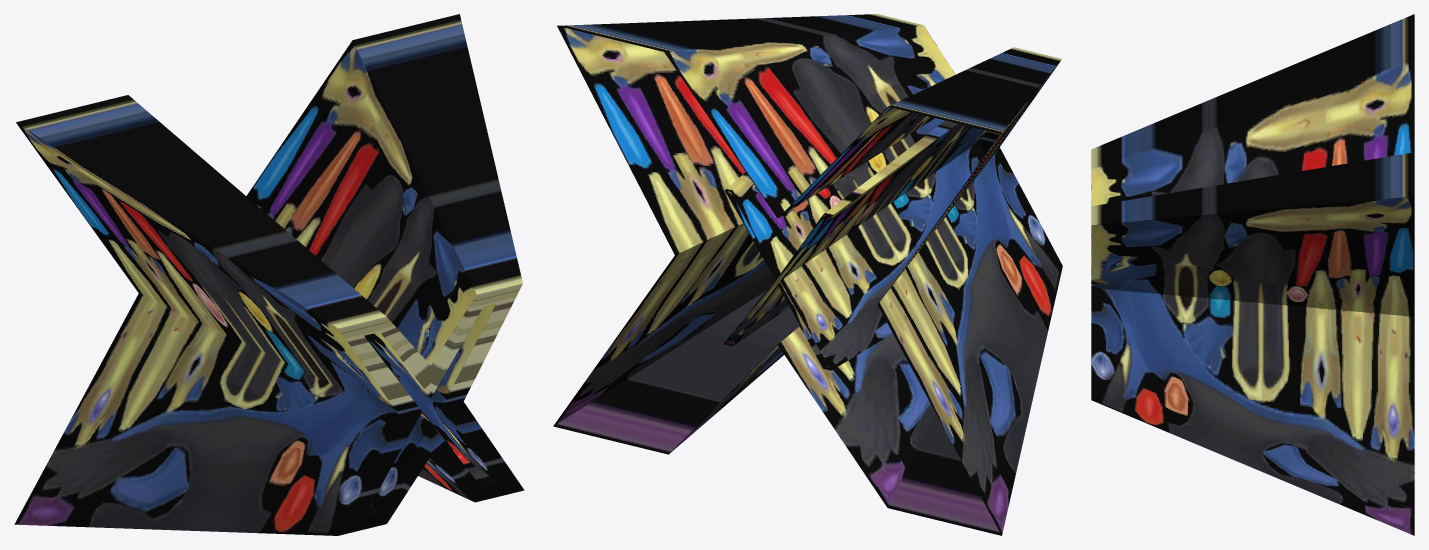
File: 0503_zheerniyasi_X.glb
3 renders of one model, left to right at view 1: azimuth 30°, elevation 25°; view 2: azimuth 150°, elevation 25°; view 3: azimuth 270°, elevation 25°, orthographic. The views are drawn at different scales.
Size of the model in its own units: 2.2 by 1.88 by 1.63.
1 material, 1 textured.
